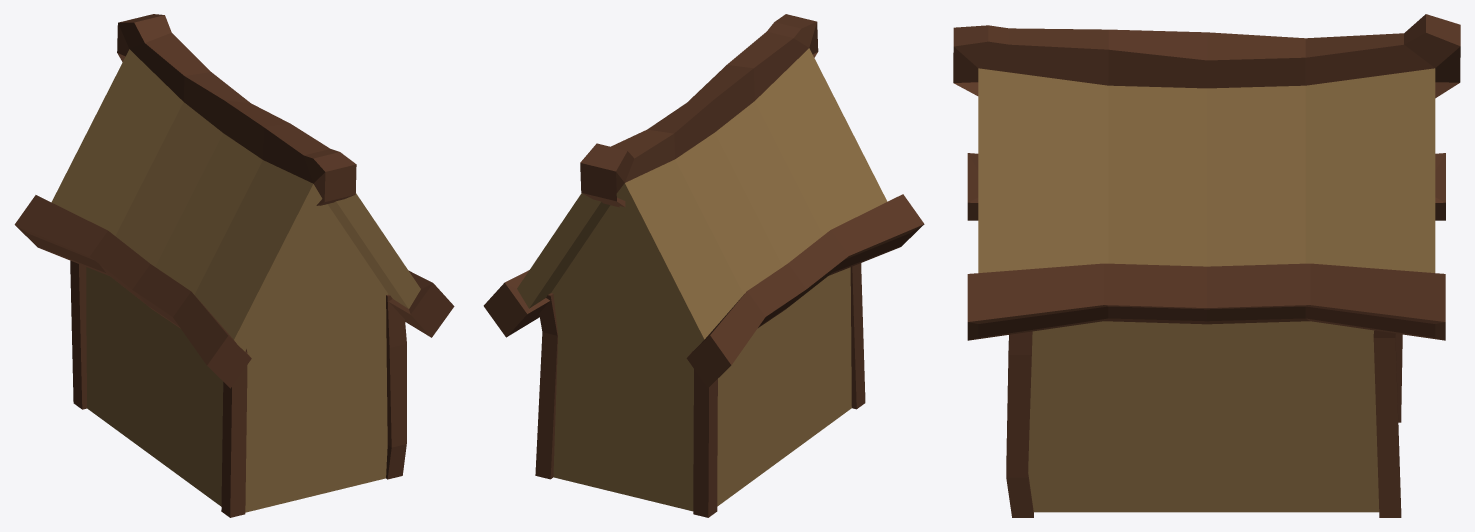
The model's file is StiltBuilding_02.fbx.
The picture shows the model from 3 angles, left to right: view 1: azimuth 30°, elevation 25°; view 2: azimuth 150°, elevation 25°; view 3: azimuth 270°, elevation 25°; orthographic projection. The views are drawn at different scales.
Visible parts, largest first — view 1: House_2; view 2: House_2; view 3: House_2.
Part boxes in pixels (left/top/right/bottom): House_2: left=14, top=14, right=454, bottom=517; House_2: left=483, top=14, right=924, bottom=517; House_2: left=953, top=14, right=1460, bottom=517.
Size of the model in its own units: 215 by 295 by 307.
